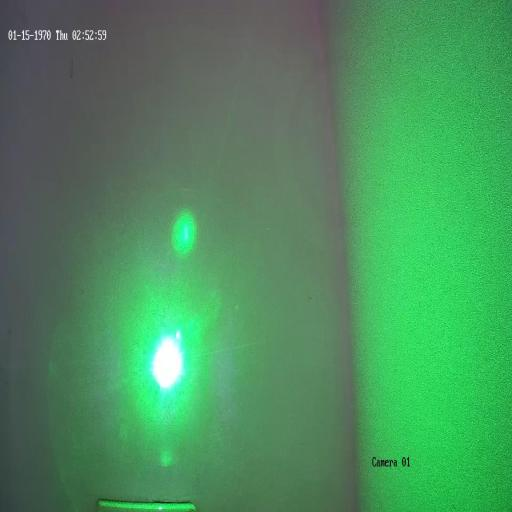laser: (146, 314, 192, 400)
